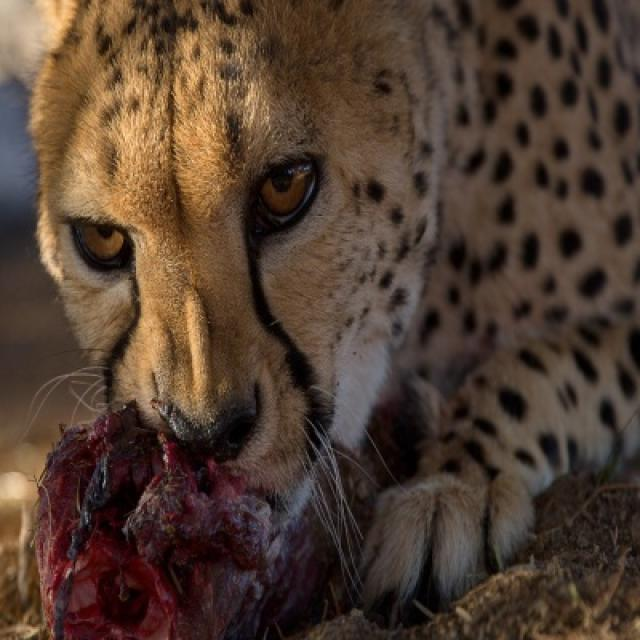Cheetah: (32, 0, 638, 597)
